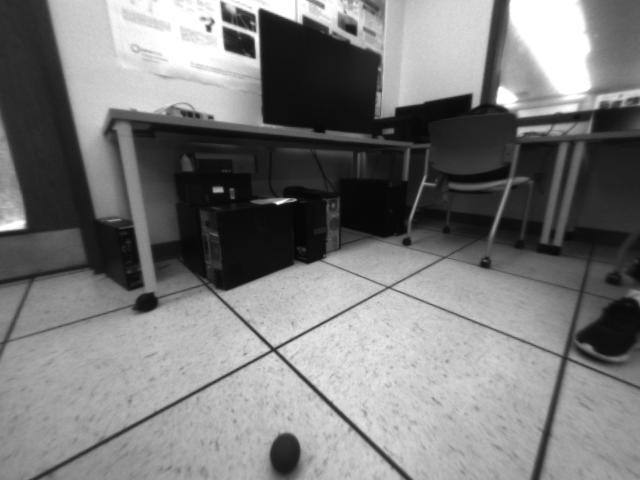dogtoy: (261, 426, 310, 477)
